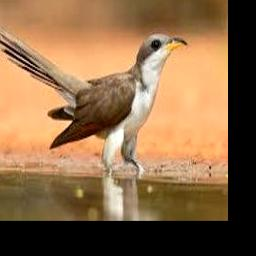Cuckoo: (0, 25, 188, 173)
